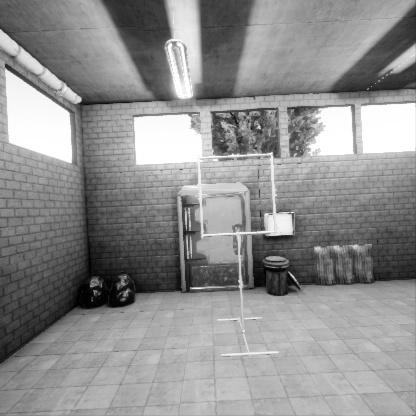gate: (196, 181, 281, 266)
